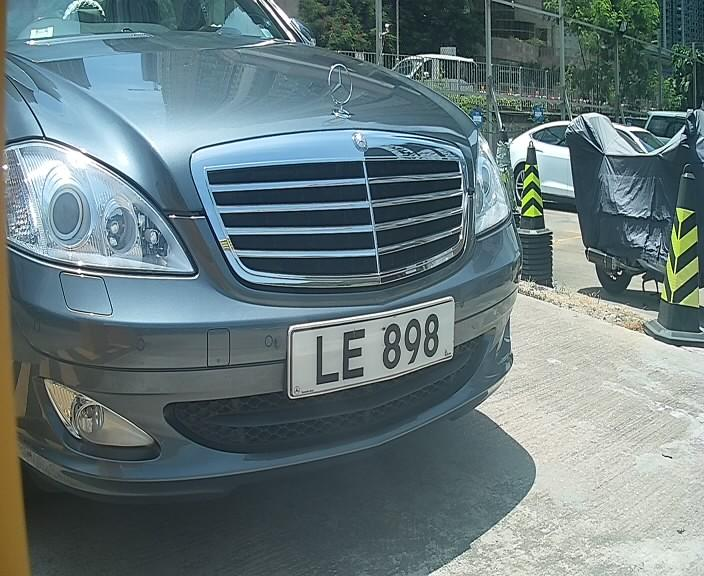Car: (1, 3, 557, 538)
License Plate: (283, 299, 462, 394)
